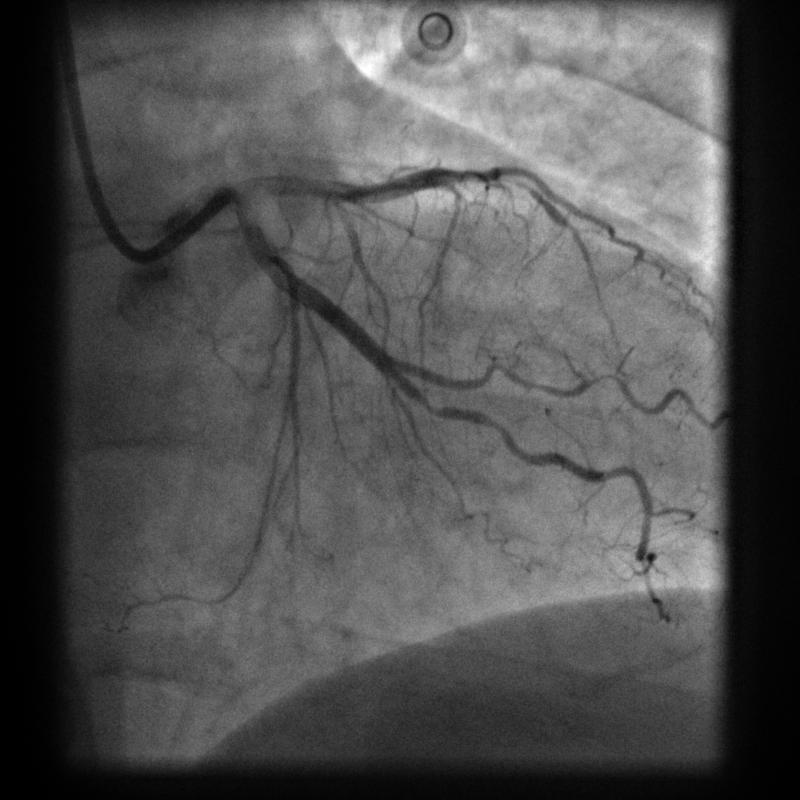Stenosis: (420, 404, 513, 435)
